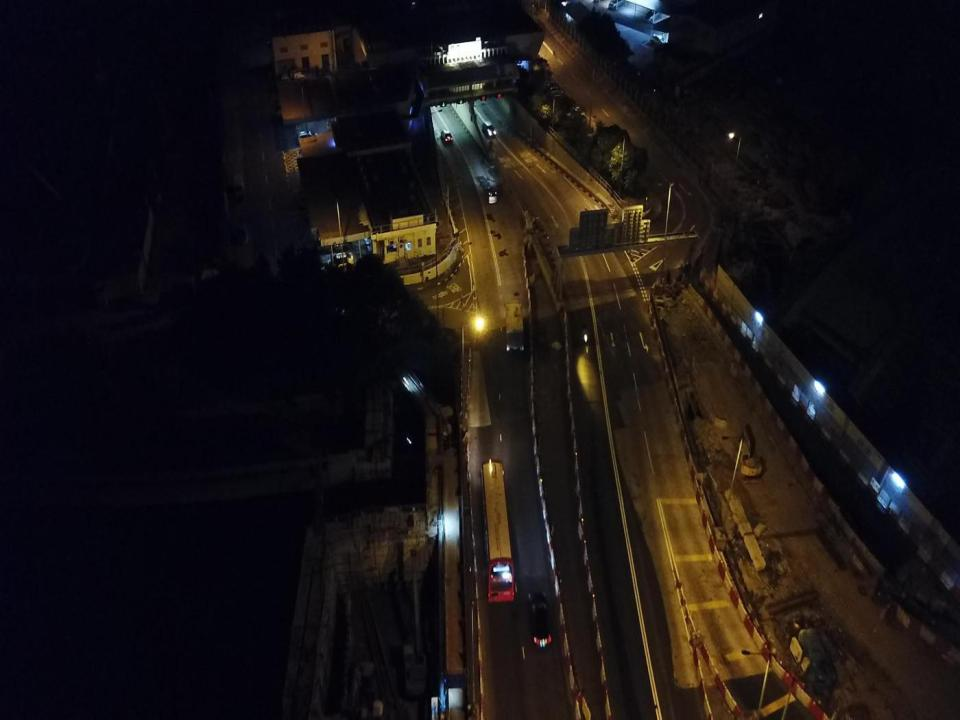bus: (480, 457, 516, 602)
car: (528, 589, 552, 650), (482, 121, 496, 140), (440, 130, 453, 142)
truck: (503, 302, 525, 354)
van: (486, 178, 499, 206)
